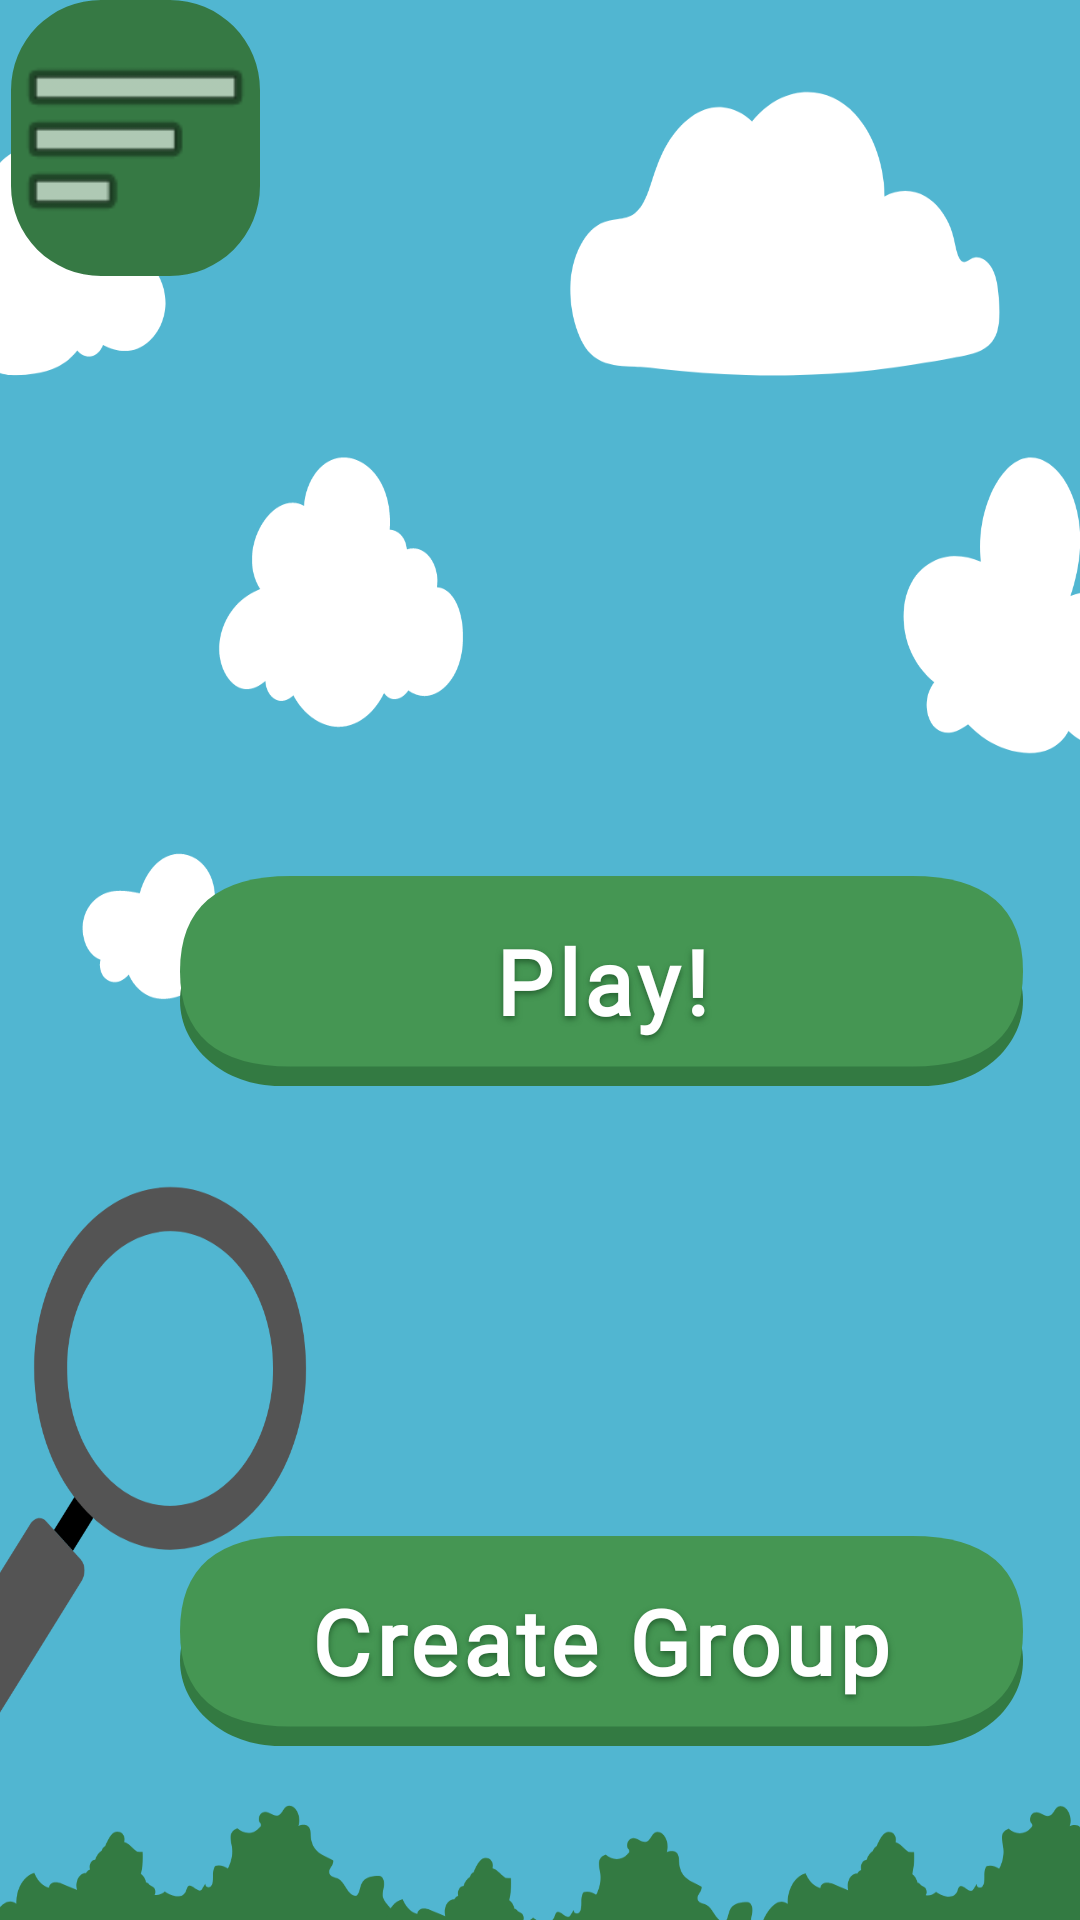

Locate icon controls on the screen. Image size 1080*1920, boxes as (left=x1, top=y1, right=x2, bottom=y2).
sort by size: (left=11, top=0, right=260, bottom=276)
